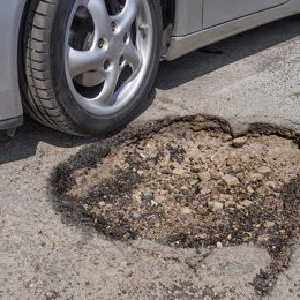pothole: (46, 110, 300, 251)
